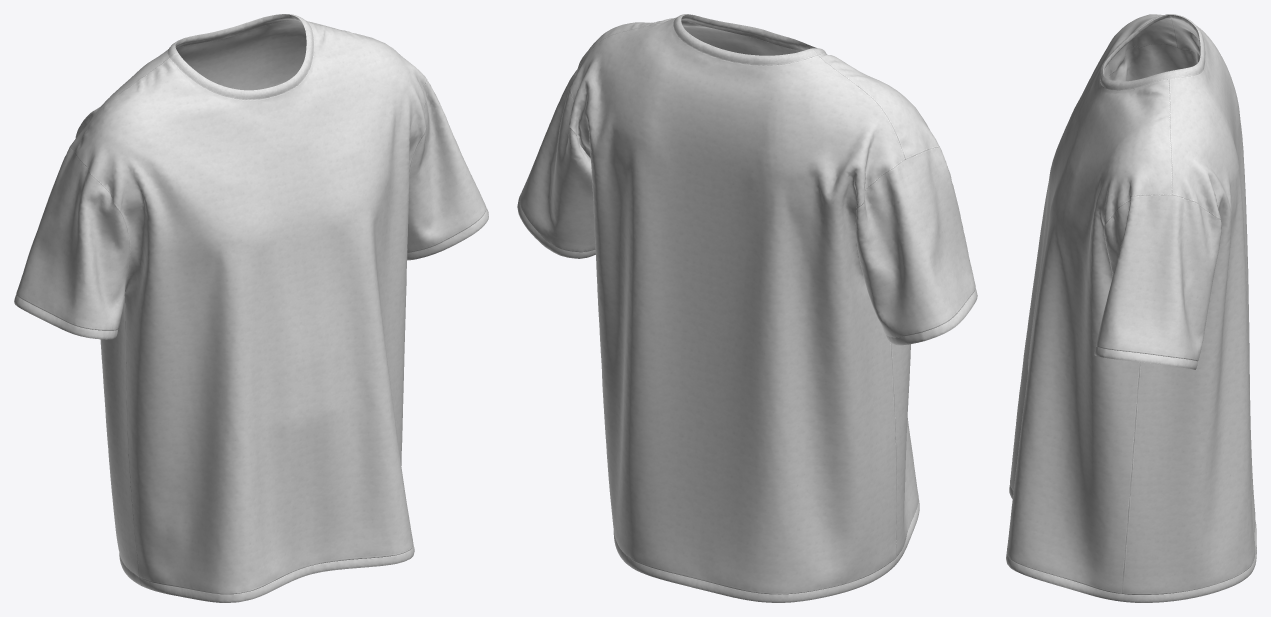
File: 1752159445800-ujb7dgobp.glb
3 views of the same model, side by side, from view 1: azimuth 30°, elevation 25°; view 2: azimuth 150°, elevation 25°; view 3: azimuth 270°, elevation 25° (orthographic). The views are drawn at different scales.
Visible parts, largest first — view 1: baju-mat; view 2: baju-mat; view 3: baju-mat.
Part boxes in pixels (box(x1,y1,x2,y2)): baju-mat: box(14, 14, 488, 602); baju-mat: box(517, 14, 977, 602); baju-mat: box(1006, 14, 1256, 602).
Bounding box in the file's own units: 0.637 × 0.7108 × 0.3212.
1 material, 1 textured.
